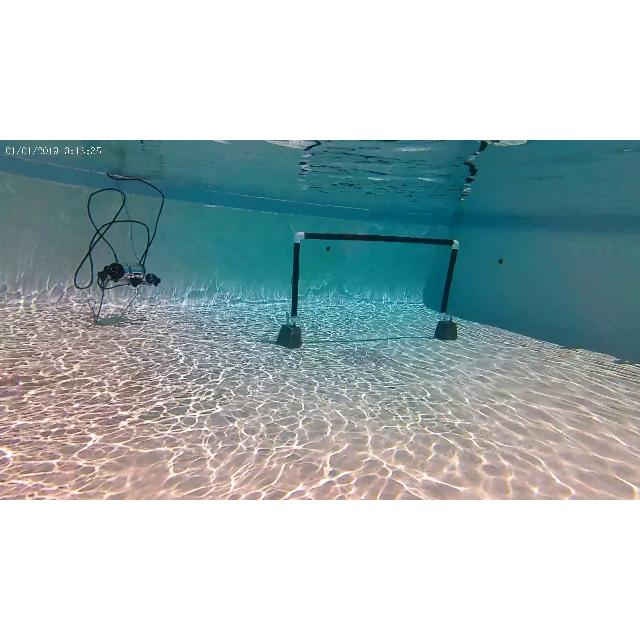prequal gate: (290, 232, 460, 322)
prequal gate leg l: (278, 230, 308, 350)
prequal gate leg r: (434, 238, 464, 340)
